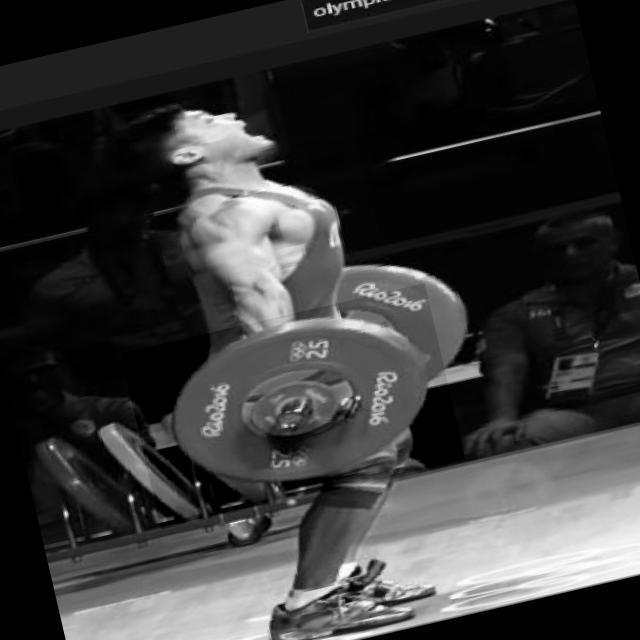barbell: (121, 284, 466, 531)
